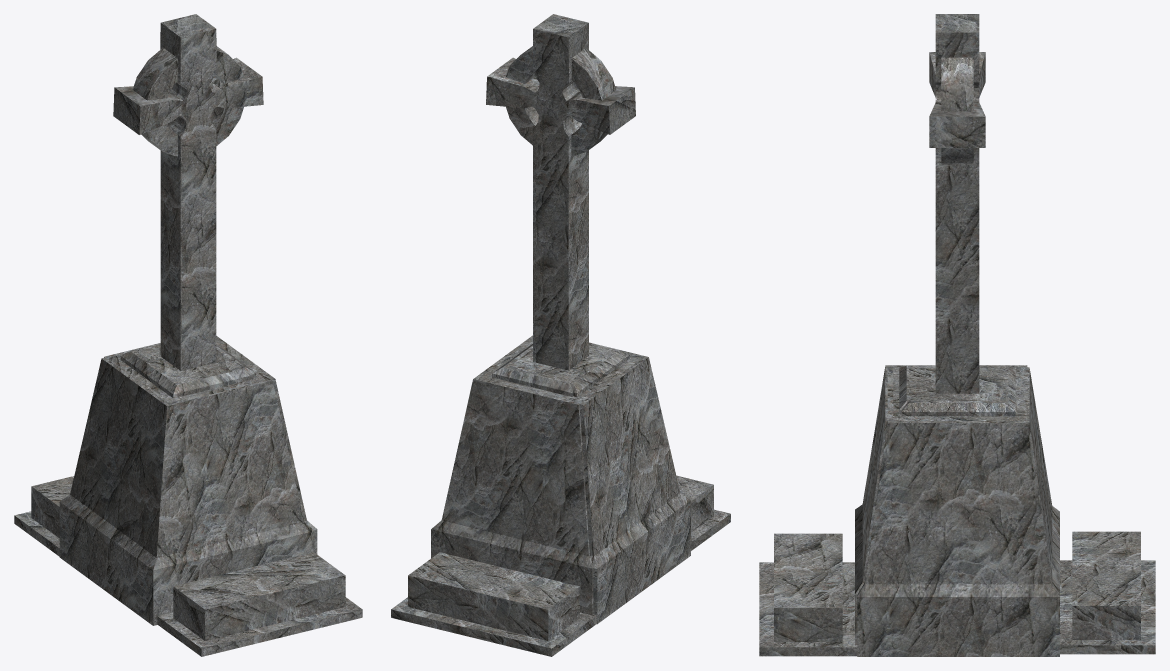
Rendered from tumba2.fbx.
The picture shows the model from 3 angles, left to right: view 1: azimuth 30°, elevation 25°; view 2: azimuth 150°, elevation 25°; view 3: azimuth 270°, elevation 25°; orthographic projection. The views are drawn at different scales.
Parts seen in each view (by area): view 1: Headstone:Box003; view 2: Headstone:Box003; view 3: Headstone:Box003.
Boxes of the visible parts, x1,y1,x2,y2 form: Headstone:Box003: (14, 14, 362, 656); Headstone:Box003: (391, 14, 730, 656); Headstone:Box003: (759, 14, 1155, 656).
Size of the model in its own units: 0.5833 by 1.84 by 1.12.
1 material, 1 textured.
